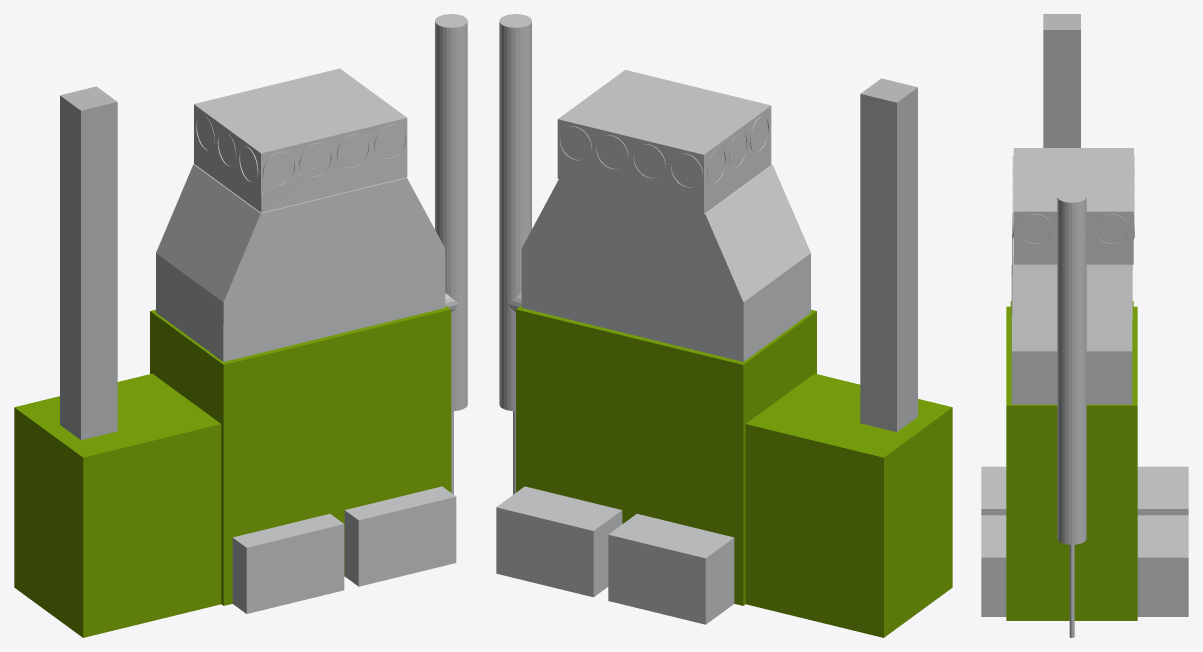
The model's file is wanson.4.glb.
3 renders of one model, left to right at view 1: azimuth 30°, elevation 25°; view 2: azimuth 150°, elevation 25°; view 3: azimuth 270°, elevation 25°, orthographic. The views are drawn at different scales.
Parts seen in each view (by area): view 1: imagetostl_mesh9, imagetostl_mesh7, imagetostl_mesh159, imagetostl_mesh158, imagetostl_mesh13, imagetostl_mesh104, imagetostl_mesh715, imagetostl_mesh802, imagetostl_mesh155, imagetostl_mesh3, imagetostl_mesh10, imagetostl_mesh12 (+19 smaller); view 2: imagetostl_mesh41, imagetostl_mesh16, imagetostl_mesh154, imagetostl_mesh37, imagetostl_mesh13, imagetostl_mesh11, imagetostl_mesh715, imagetostl_mesh805, imagetostl_mesh155, imagetostl_mesh10, imagetostl_mesh3, imagetostl_mesh15 (+19 smaller); view 3: imagetostl_mesh146, imagetostl_mesh156, imagetostl_mesh715, imagetostl_mesh157, imagetostl_mesh803, imagetostl_mesh103, imagetostl_mesh1, imagetostl_mesh21, imagetostl_mesh27, imagetostl_mesh51, imagetostl_mesh69, imagetostl_mesh14 (+15 smaller).
Part boxes in pixels (x1,y1,x2,y2): imagetostl_mesh9: (223,309,451,605); imagetostl_mesh7: (83,424,221,637); imagetostl_mesh159: (224,178,444,302); imagetostl_mesh158: (223,248,445,361); imagetostl_mesh13: (14,407,83,637); imagetostl_mesh104: (81,102,117,439); imagetostl_mesh715: (194,68,406,153); imagetostl_mesh802: (261,118,407,212); imagetostl_mesh155: (156,164,260,302); imagetostl_mesh3: (60,95,80,439); imagetostl_mesh10: (14,373,220,457); imagetostl_mesh12: (246,524,344,613); imagetostl_mesh41: (516,309,743,605); imagetostl_mesh16: (745,424,883,637); imagetostl_mesh154: (522,179,742,302); imagetostl_mesh37: (521,248,743,361); imagetostl_mesh13: (884,407,952,637); imagetostl_mesh11: (860,94,896,431); imagetostl_mesh715: (558,70,770,154); imagetostl_mesh805: (557,119,703,214); imagetostl_mesh155: (705,165,810,302); imagetostl_mesh10: (746,373,952,457); imagetostl_mesh3: (897,87,917,431); imagetostl_mesh15: (496,507,593,597); imagetostl_mesh146: (1006,405,1137,620); imagetostl_mesh156: (1012,264,1132,351); imagetostl_mesh715: (1013,148,1133,211); imagetostl_mesh157: (1011,351,1132,404); imagetostl_mesh803: (1013,211,1133,264); imagetostl_mesh103: (1043,30,1080,147); imagetostl_mesh1: (1137,557,1188,616); imagetostl_mesh21: (1137,515,1188,557); imagetostl_mesh27: (1137,466,1188,508); imagetostl_mesh51: (1075,202,1079,544); imagetostl_mesh69: (1064,202,1068,544); imagetostl_mesh14: (981,557,1006,616).
Size of the model in its own units: 4.04 by 4.72 by 1.95.
